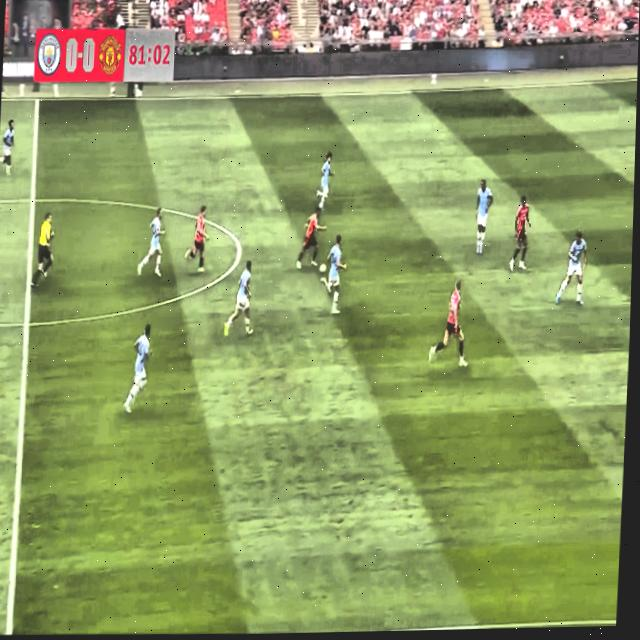ball: (317, 255, 332, 281)
players: (422, 262, 476, 375), (118, 307, 155, 421), (552, 221, 595, 315), (133, 195, 171, 288), (221, 256, 258, 347), (292, 206, 330, 279), (470, 169, 497, 264), (181, 195, 213, 274), (507, 187, 534, 279), (317, 236, 348, 316), (311, 144, 339, 214), (0, 115, 18, 186)
refree: (26, 206, 61, 302)
